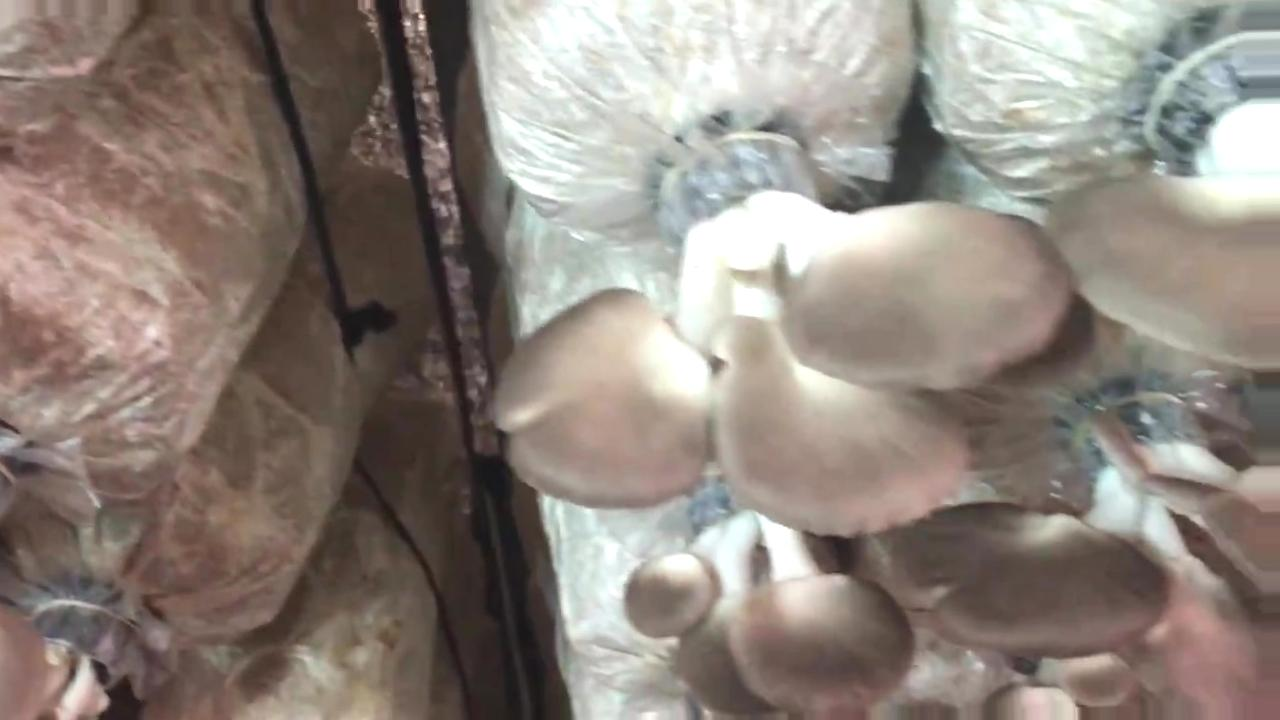nam: (498, 137, 1074, 534), (903, 398, 1279, 720), (1057, 27, 1280, 369), (630, 466, 914, 720)
